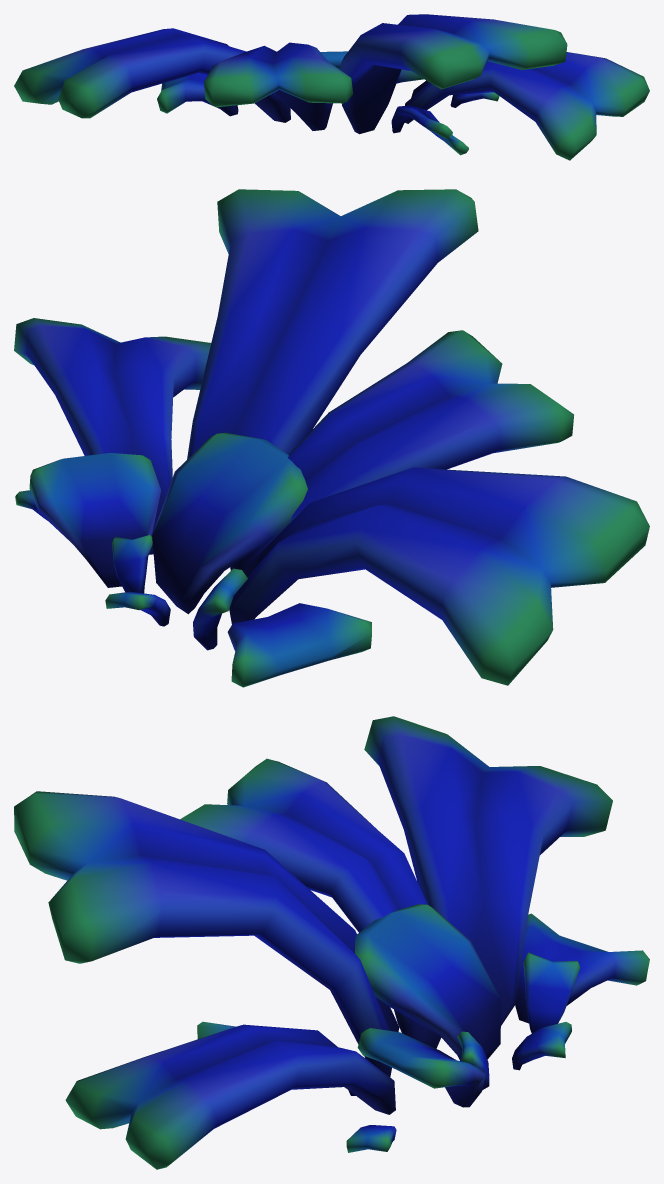
Rendered from Alien_Grass05.fbx.
The picture shows the model from 3 angles, top to bottom: view 1: azimuth 30°, elevation 25°; view 2: azimuth 150°, elevation 25°; view 3: azimuth 270°, elevation 25°; orthographic projection. The views are drawn at different scales.
Visible parts, largest first — view 1: Alien_Grass05; view 2: Alien_Grass05; view 3: Alien_Grass05.
Boxes of the visible parts, <box> form: Alien_Grass05: <box>14,14,649,160</box>; Alien_Grass05: <box>14,189,649,687</box>; Alien_Grass05: <box>14,716,649,1169</box>.
Bounding box in the file's own units: 8082 × 2770 × 6174.
